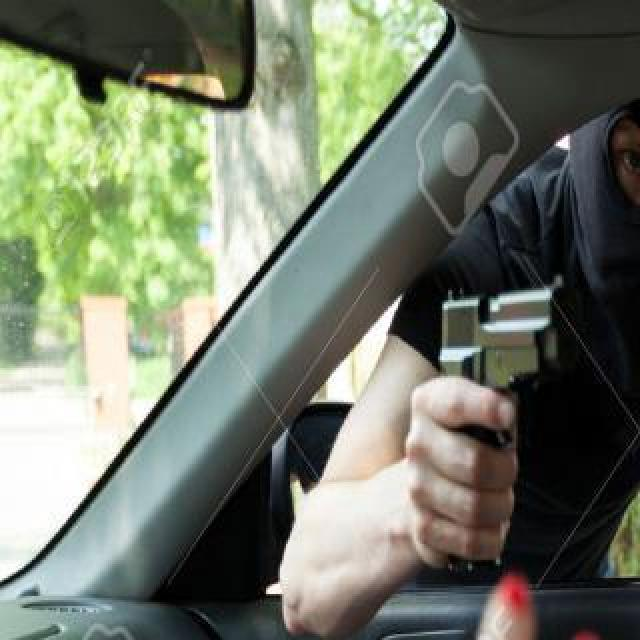Guns: (413, 254, 606, 468)
